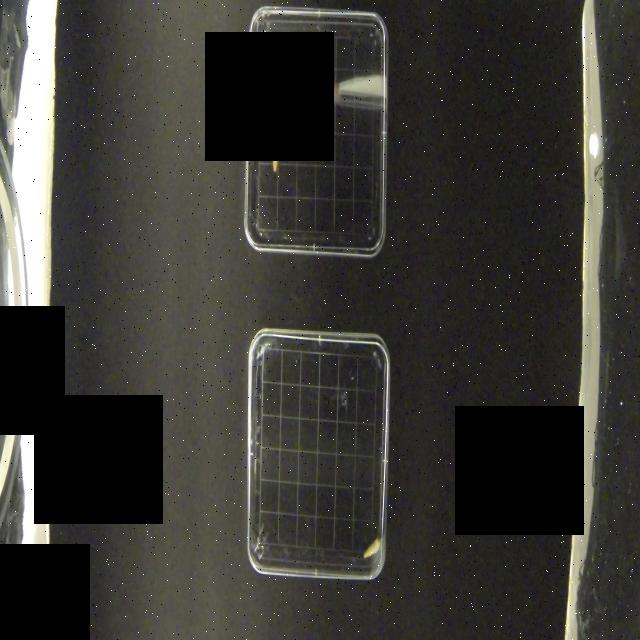larva: (271, 104, 286, 176), (362, 533, 382, 562)
